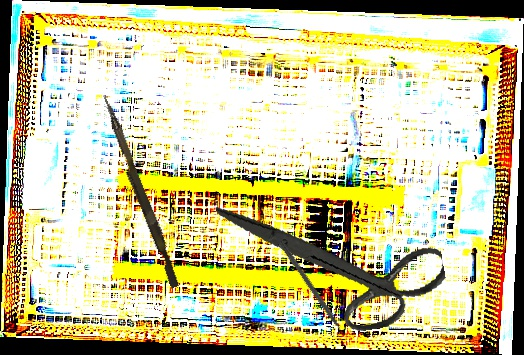Iris Scissors: (215, 169, 453, 353)
Pusher: (94, 93, 185, 289), (277, 240, 350, 343)
